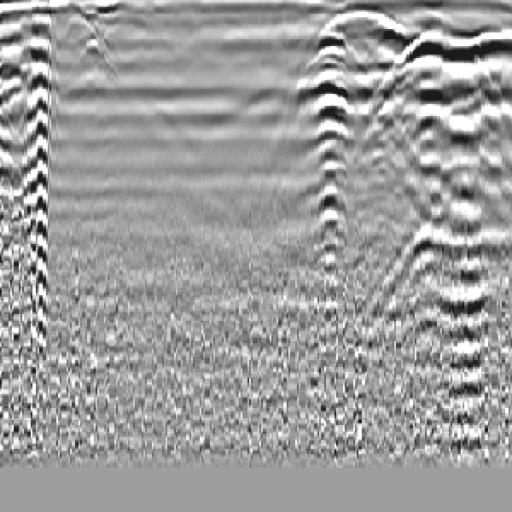metalic: (240, 2, 417, 341)
